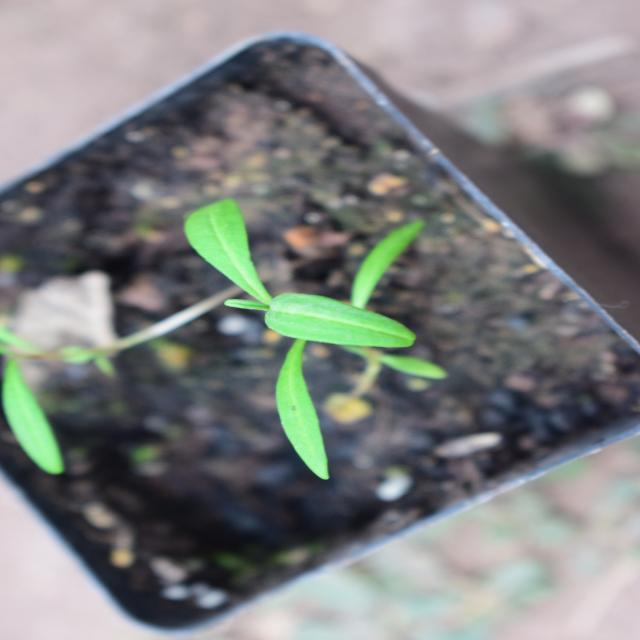white_smart_weed: (160, 145, 474, 477)
